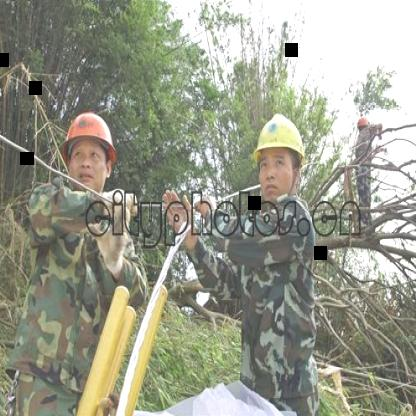helmet: (247, 107, 310, 204), (57, 103, 121, 197)
